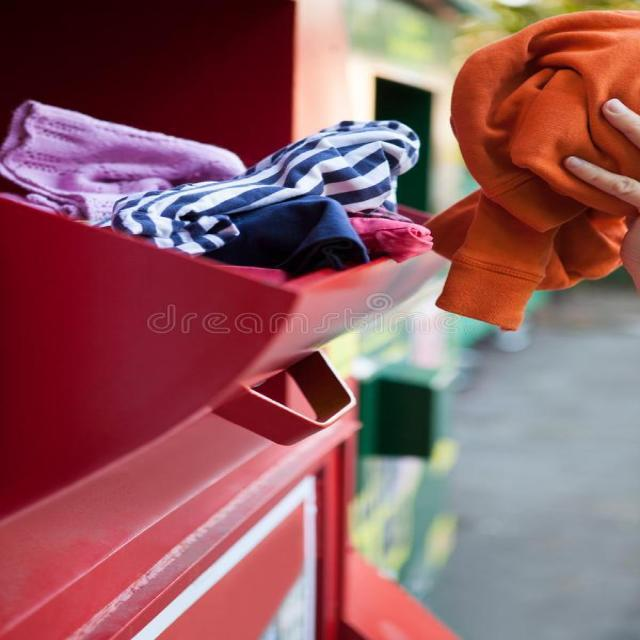clothes: (0, 88, 417, 266), (450, 8, 640, 289)
